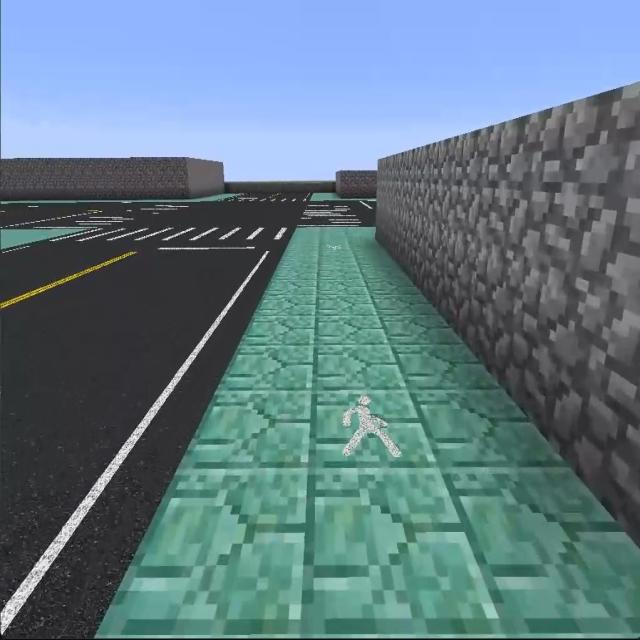crosswalk: (32, 224, 292, 249), (14, 201, 200, 227), (292, 203, 368, 224), (226, 194, 308, 205)
road: (4, 242, 282, 628), (130, 200, 302, 222)
sidewalk: (96, 224, 639, 639), (0, 228, 78, 250), (132, 194, 235, 202), (310, 192, 375, 201), (7, 199, 121, 204)
